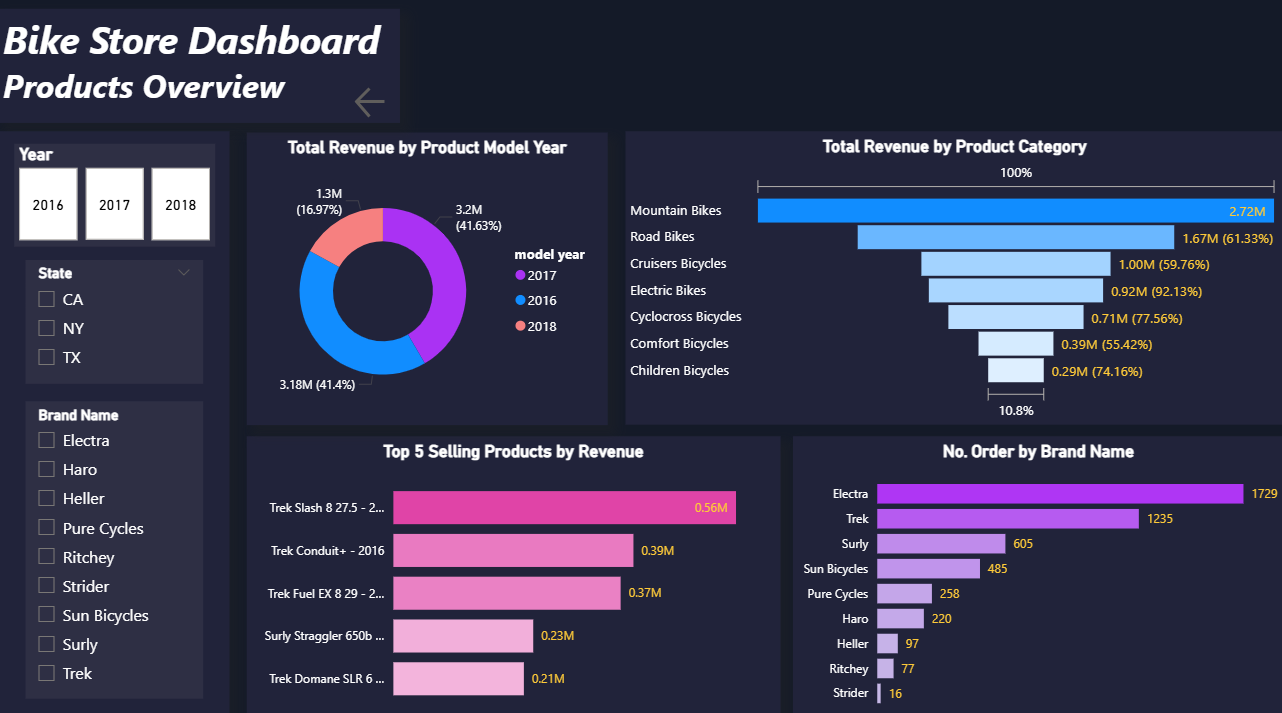

What the dashboard file says about the page in this screenshot:
{"tool":"powerbi","page":{"name":"Product","canvas":[1280,720],"ordinal":1},"visuals":[{"type":"shape","box":[0,0,1280,720.3],"z":0},{"type":"funnel","title":"Total Revenue by Product Category","fields":{"Category":["production categories.category_name"],"Y":["sales order_items.TotalRevenue"]},"box":[624.5,135.6,655.6,292.3],"z":1000},{"type":"clusteredBarChart","title":"Top 5 Selling Products by Revenue","fields":{"Category":["production products.product_name"],"Y":["sales order_items.TotalRevenue"]},"box":[247.5,439.1,531.2,281.1],"z":2000},{"type":"clusteredBarChart","title":"No. Order by Brand Name","fields":{"Category":["production brands.brand_name"],"Y":["CountNonNull(sales order_items.order_id)"]},"box":[791.2,439.1,488.9,281.1],"z":3000},{"type":"donutChart","title":"Total Revenue by Product Model Year","fields":{"Category":["production products.model_year"],"Y":["sales order_items.TotalRevenue"]},"box":[247.5,136.8,359.5,291.1],"z":4000},{"type":"textbox","box":[0,13.7,400,113.2],"z":5000},{"type":"textbox","box":[0,135.3,230.1,584.7],"z":6000},{"type":"slicer","fields":{"Values":["production brands.brand_name"]},"box":[27.4,404.3,176.6,296.1],"z":7000},{"type":"advancedSlicerVisual","fields":{"Values":["sales orders.required_date.Variation.Date Hierarchy.Year"]},"box":[16.2,148,200.3,102],"z":8000},{"type":"slicer","fields":{"Values":["sales customers.state"]},"box":[27.4,263.7,176.6,123.2],"z":9000},{"type":"actionButton","box":[350.8,87.1,49.8,39.8],"z":9001}]}

Visuals, with their boxes in screenshot pixels (x1, y1, x2, y2), scaled from the page's 1280x720 canvas onto the 1282x713 screenshot:
shape: 0,0,1281,712
"Total Revenue by Product Category" funnel: 625,134,1281,424
"Top 5 Selling Products by Revenue" clusteredBarChart: 248,435,780,712
"No. Order by Brand Name" clusteredBarChart: 792,435,1281,712
"Total Revenue by Product Model Year" donutChart: 248,135,608,424
textbox: 0,14,401,126
textbox: 0,134,230,712
slicer - production brands.brand_name: 27,400,204,694
advancedSlicerVisual - sales orders.required_date.Variation.Date Hierarchy.Year: 16,147,217,248
slicer - sales customers.state: 27,261,204,383
actionButton: 351,86,401,126
